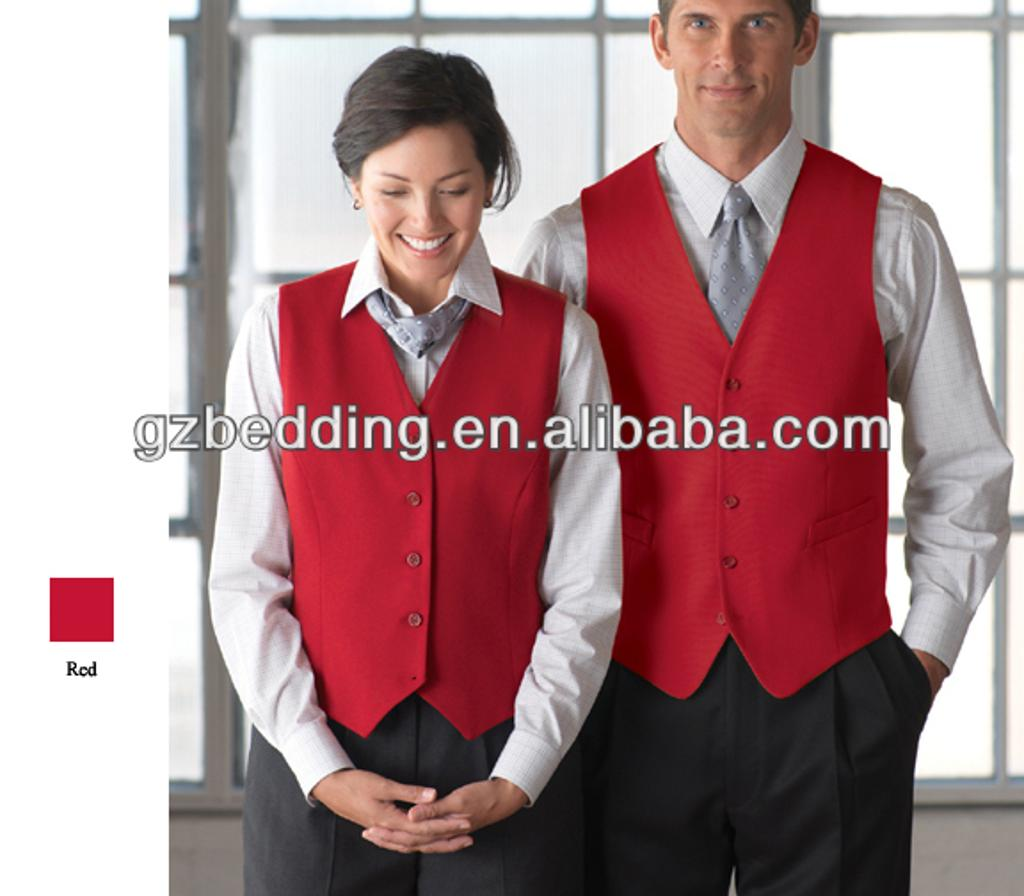face: (350, 124, 488, 284), (662, 4, 802, 136)
